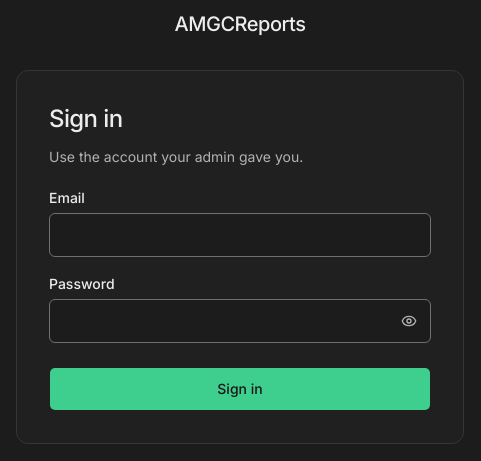
Test: login page › shows a busy sign-in button while authentication is pending
In the field labelled "Email": point(240, 235) [49,213,431,257], type "a@b.c"
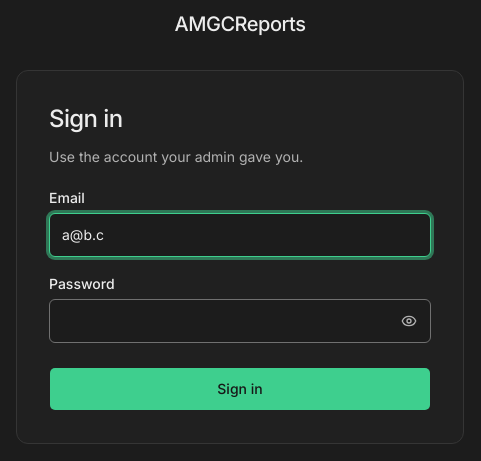
In the password field labelled "Password": point(240, 321) [49,299,431,343], type "x"
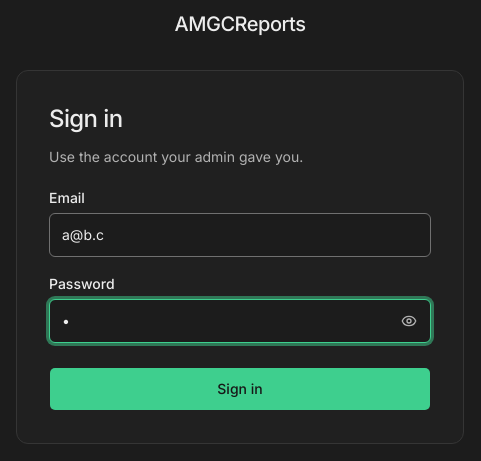
Click the button "Sign in": point(240, 389) [49,367,431,411]
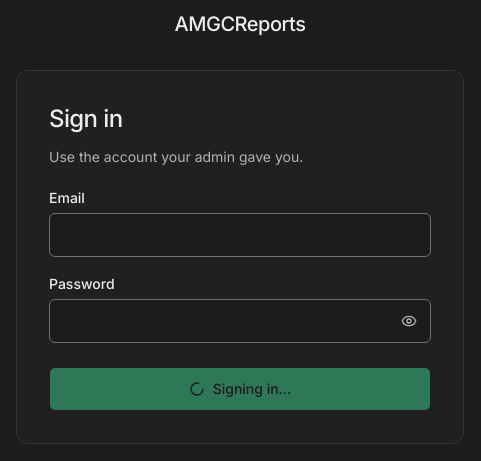
Expected: the button "Signing in…" is disabled, [49,367,431,411]
